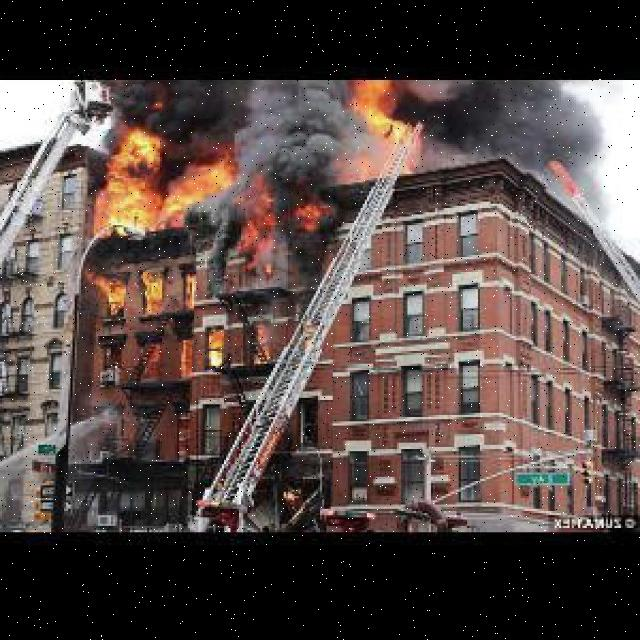fire: (91, 157, 202, 368), (237, 202, 326, 266), (363, 78, 414, 167), (205, 325, 230, 370)
smoke: (420, 80, 623, 223), (213, 78, 352, 214), (79, 78, 243, 155)
